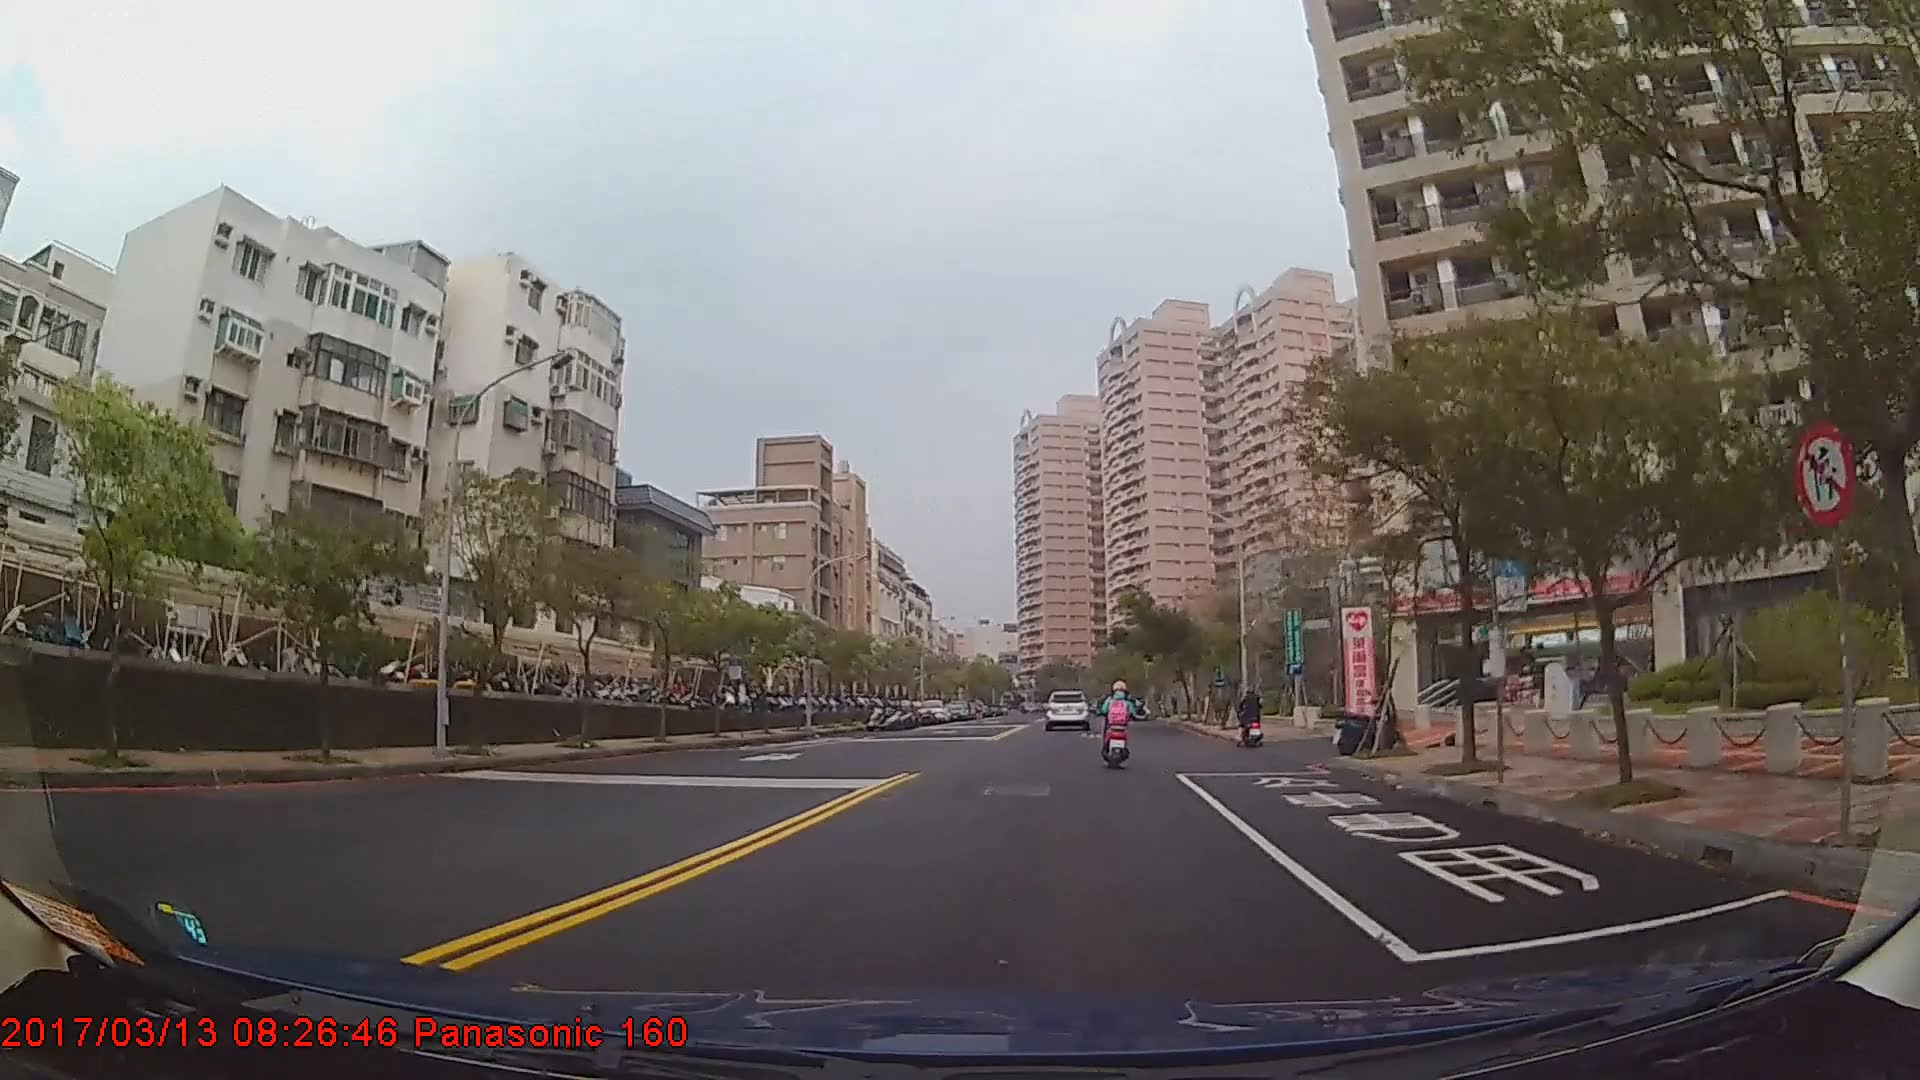rider: (1097, 679, 1138, 762), (1236, 686, 1262, 749)
vehicle: (1039, 687, 1089, 731), (912, 697, 947, 723)
